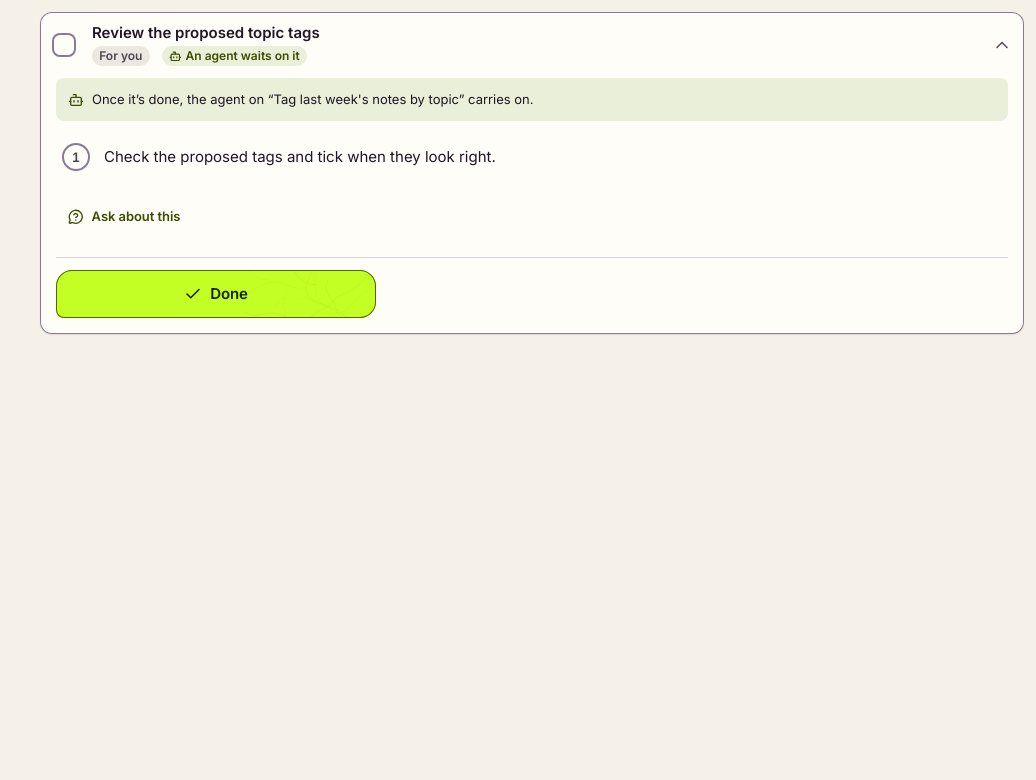
Scenario: acknowledges a completed person item from All and tells its waiting agent
The image size is (1036, 780).
Click the button "Done" at {"x": 216, "y": 294}, box [56, 270, 376, 318]
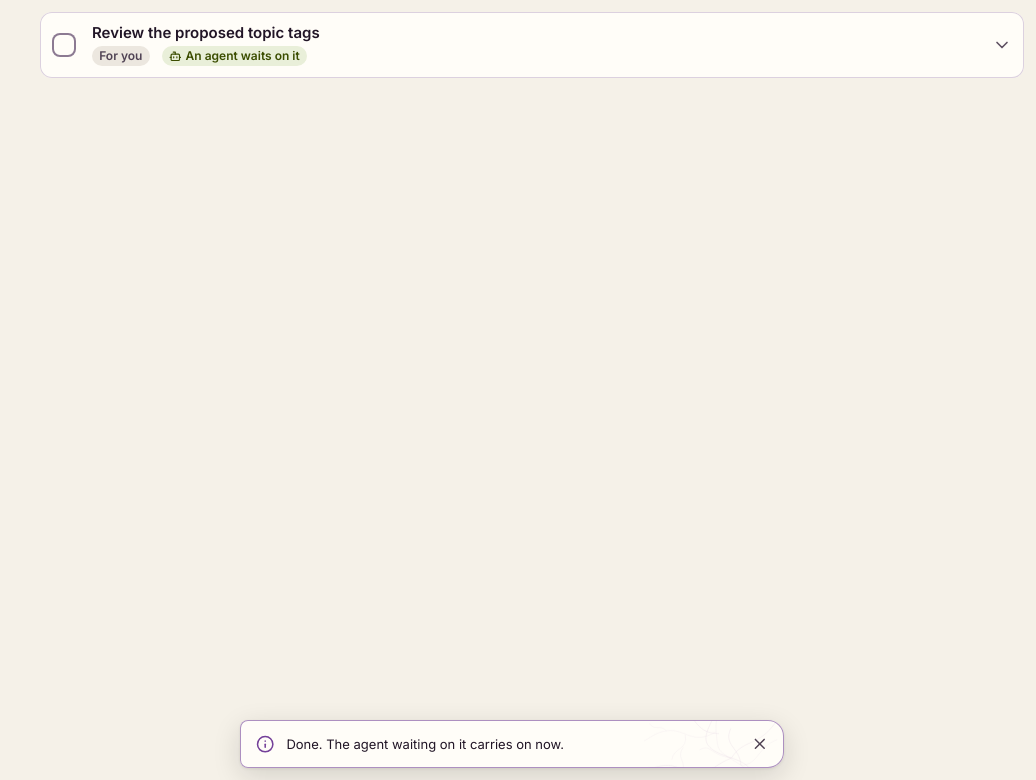
Check: the text "Done. The agent waiting on it carries on now." is shown, box [286, 736, 564, 752]
